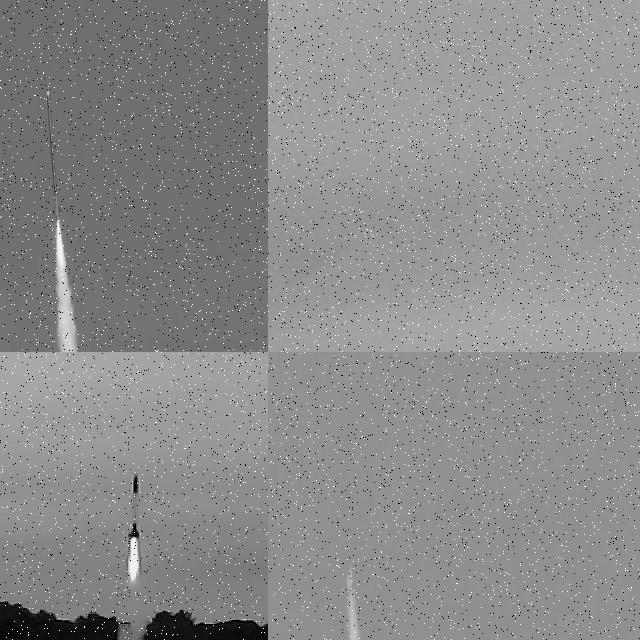Rocket: (46, 89, 62, 222), (128, 472, 140, 538), (346, 565, 356, 604)
